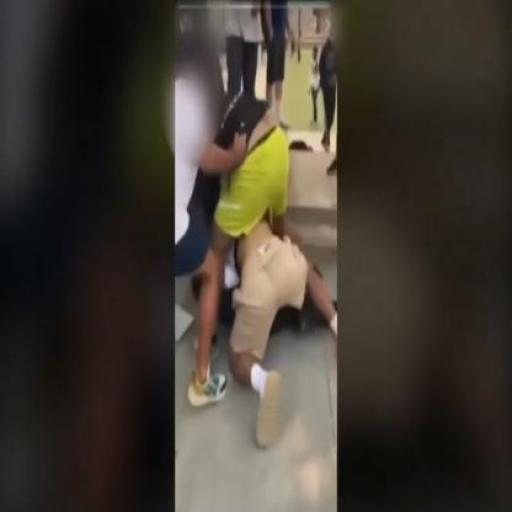Fighting: (174, 39, 338, 455)
